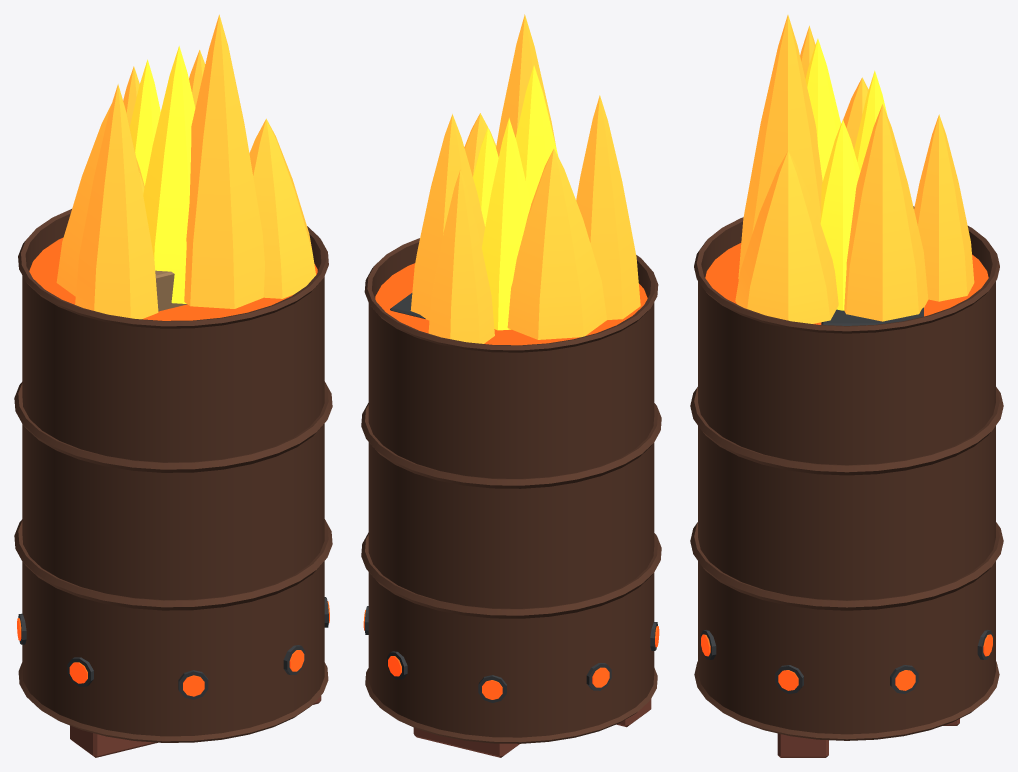
Rendered from prop_burn_barrel.glb.
3 renders of one model, left to right at view 1: azimuth 30°, elevation 25°; view 2: azimuth 150°, elevation 25°; view 3: azimuth 270°, elevation 25°, orthographic. The views are drawn at different scales.
Parts seen in each view (by area): view 1: Body, Fire; view 2: Body, Fire; view 3: Body, Fire.
Boxes of the visible parts, left/top/right/bottom form: Body: left=14, top=209, right=332, bottom=757; Fire: left=17, top=14, right=329, bottom=696; Body: left=361, top=238, right=661, bottom=757; Fire: left=363, top=14, right=659, bottom=699; Body: left=690, top=206, right=1003, bottom=757; Fire: left=701, top=15, right=992, bottom=690.
Bounding box in the file's own units: 0.61 × 1.5 × 0.61.
